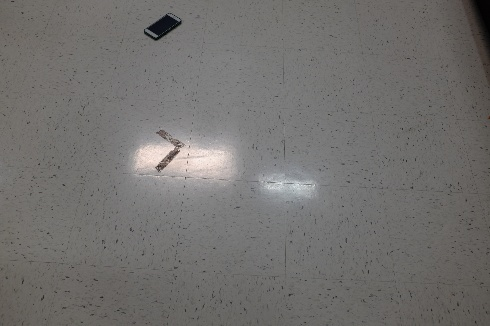phone: (140, 9, 189, 41)
